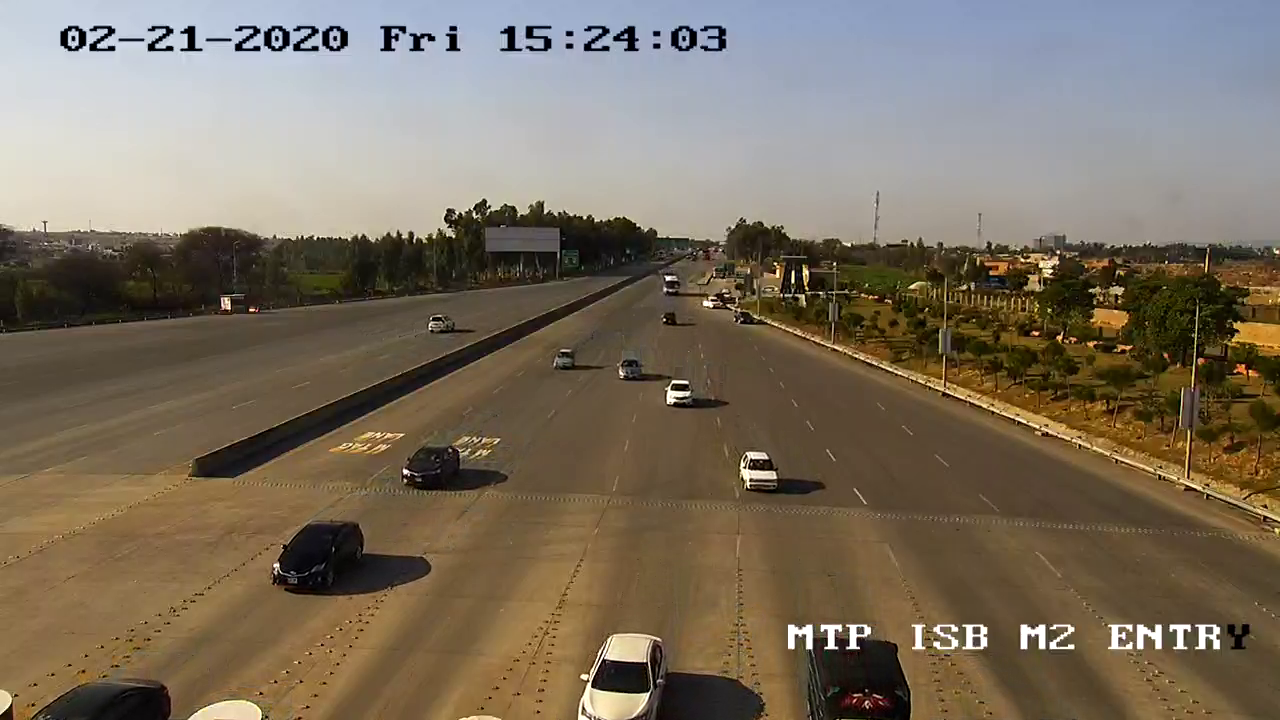f1: (264, 512, 373, 604), (398, 437, 466, 498), (733, 447, 787, 495)
